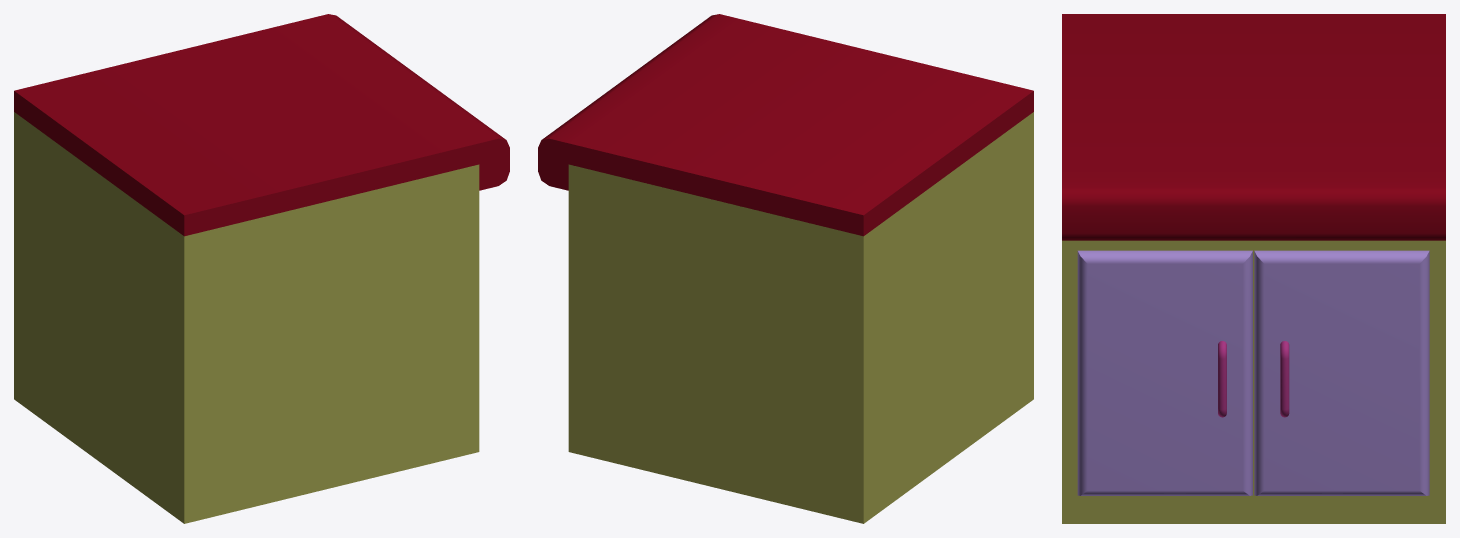
Rendered from NewCounterThree.fbx.
3 views of the same model, side by side, from view 1: azimuth 30°, elevation 25°; view 2: azimuth 150°, elevation 25°; view 3: azimuth 270°, elevation 25° (orthographic). The views are drawn at different scales.
Visible parts, largest first — view 1: CounterThree; view 2: CounterThree; view 3: CounterThree.
Part boxes in pixels (<box>): CounterThree: <box>14,14,509,523</box>; CounterThree: <box>538,14,1033,523</box>; CounterThree: <box>1062,14,1445,523</box>.
Size of the model in its own units: 2175 by 1970 by 1970.
